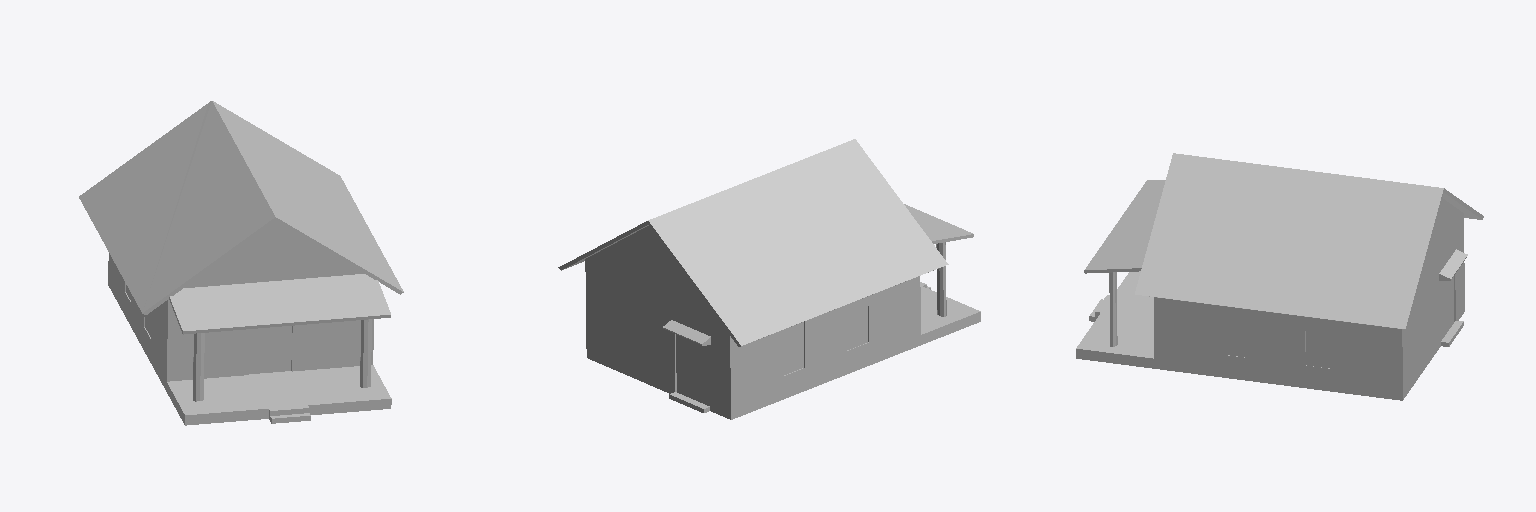
The model's file is house.obj.
3 views of the same model, side by side, from view 1: azimuth 30°, elevation 25°; view 2: azimuth 150°, elevation 25°; view 3: azimuth 270°, elevation 25° (orthographic).
Parts seen in each view (by area): view 1: farmhouse_obj; view 2: farmhouse_obj; view 3: farmhouse_obj.
Boxes of the visible parts, x1=… form: farmhouse_obj: x1=79, y1=101, x2=403, y2=425; farmhouse_obj: x1=558, y1=139, x2=980, y2=419; farmhouse_obj: x1=1076, y1=153, x2=1483, y2=400.
Bounding box in the file's own units: 12.92 × 7.25 × 15.52.